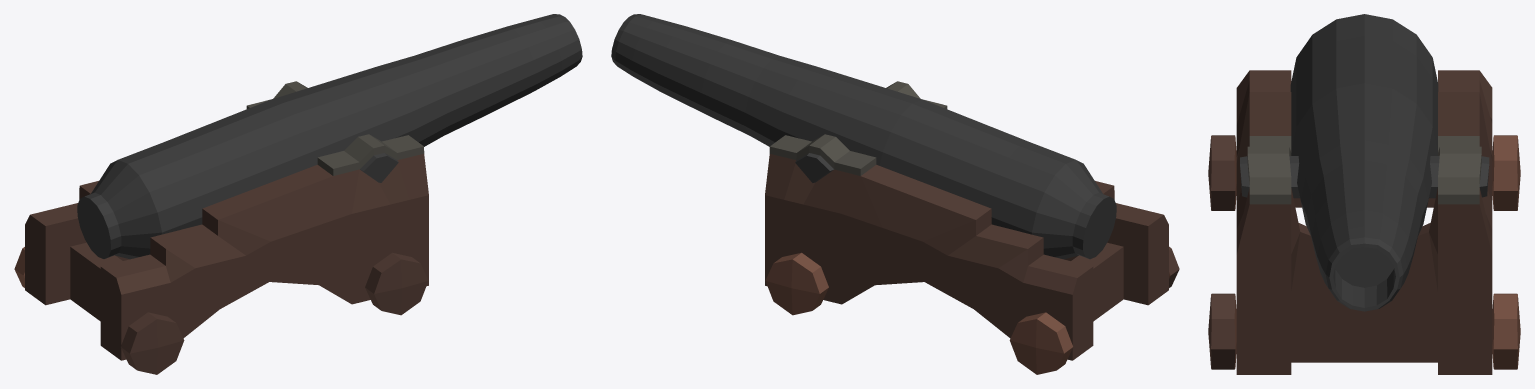
The model's file is Cannon.fbx.
3 renders of one model, left to right at view 1: azimuth 30°, elevation 25°; view 2: azimuth 150°, elevation 25°; view 3: azimuth 270°, elevation 25°, orthographic. The views are drawn at different scales.
Parts seen in each view (by area): view 1: Cannon.008; view 2: Cannon.008; view 3: Cannon.008.
Part boxes in pixels (<box>): Cannon.008: <box>14,14,582,374</box>; Cannon.008: <box>611,14,1179,374</box>; Cannon.008: <box>1208,14,1520,374</box>.
Bounding box in the file's own units: 118 × 46.17 × 48.27.
